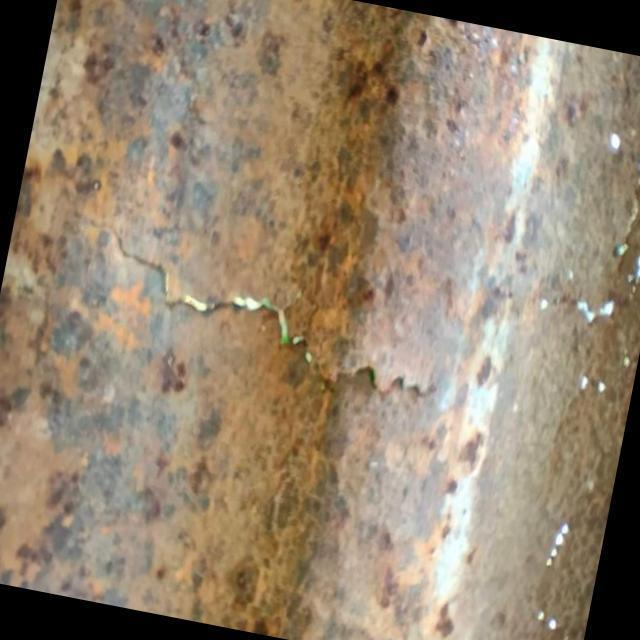defect: (58, 189, 447, 406)
